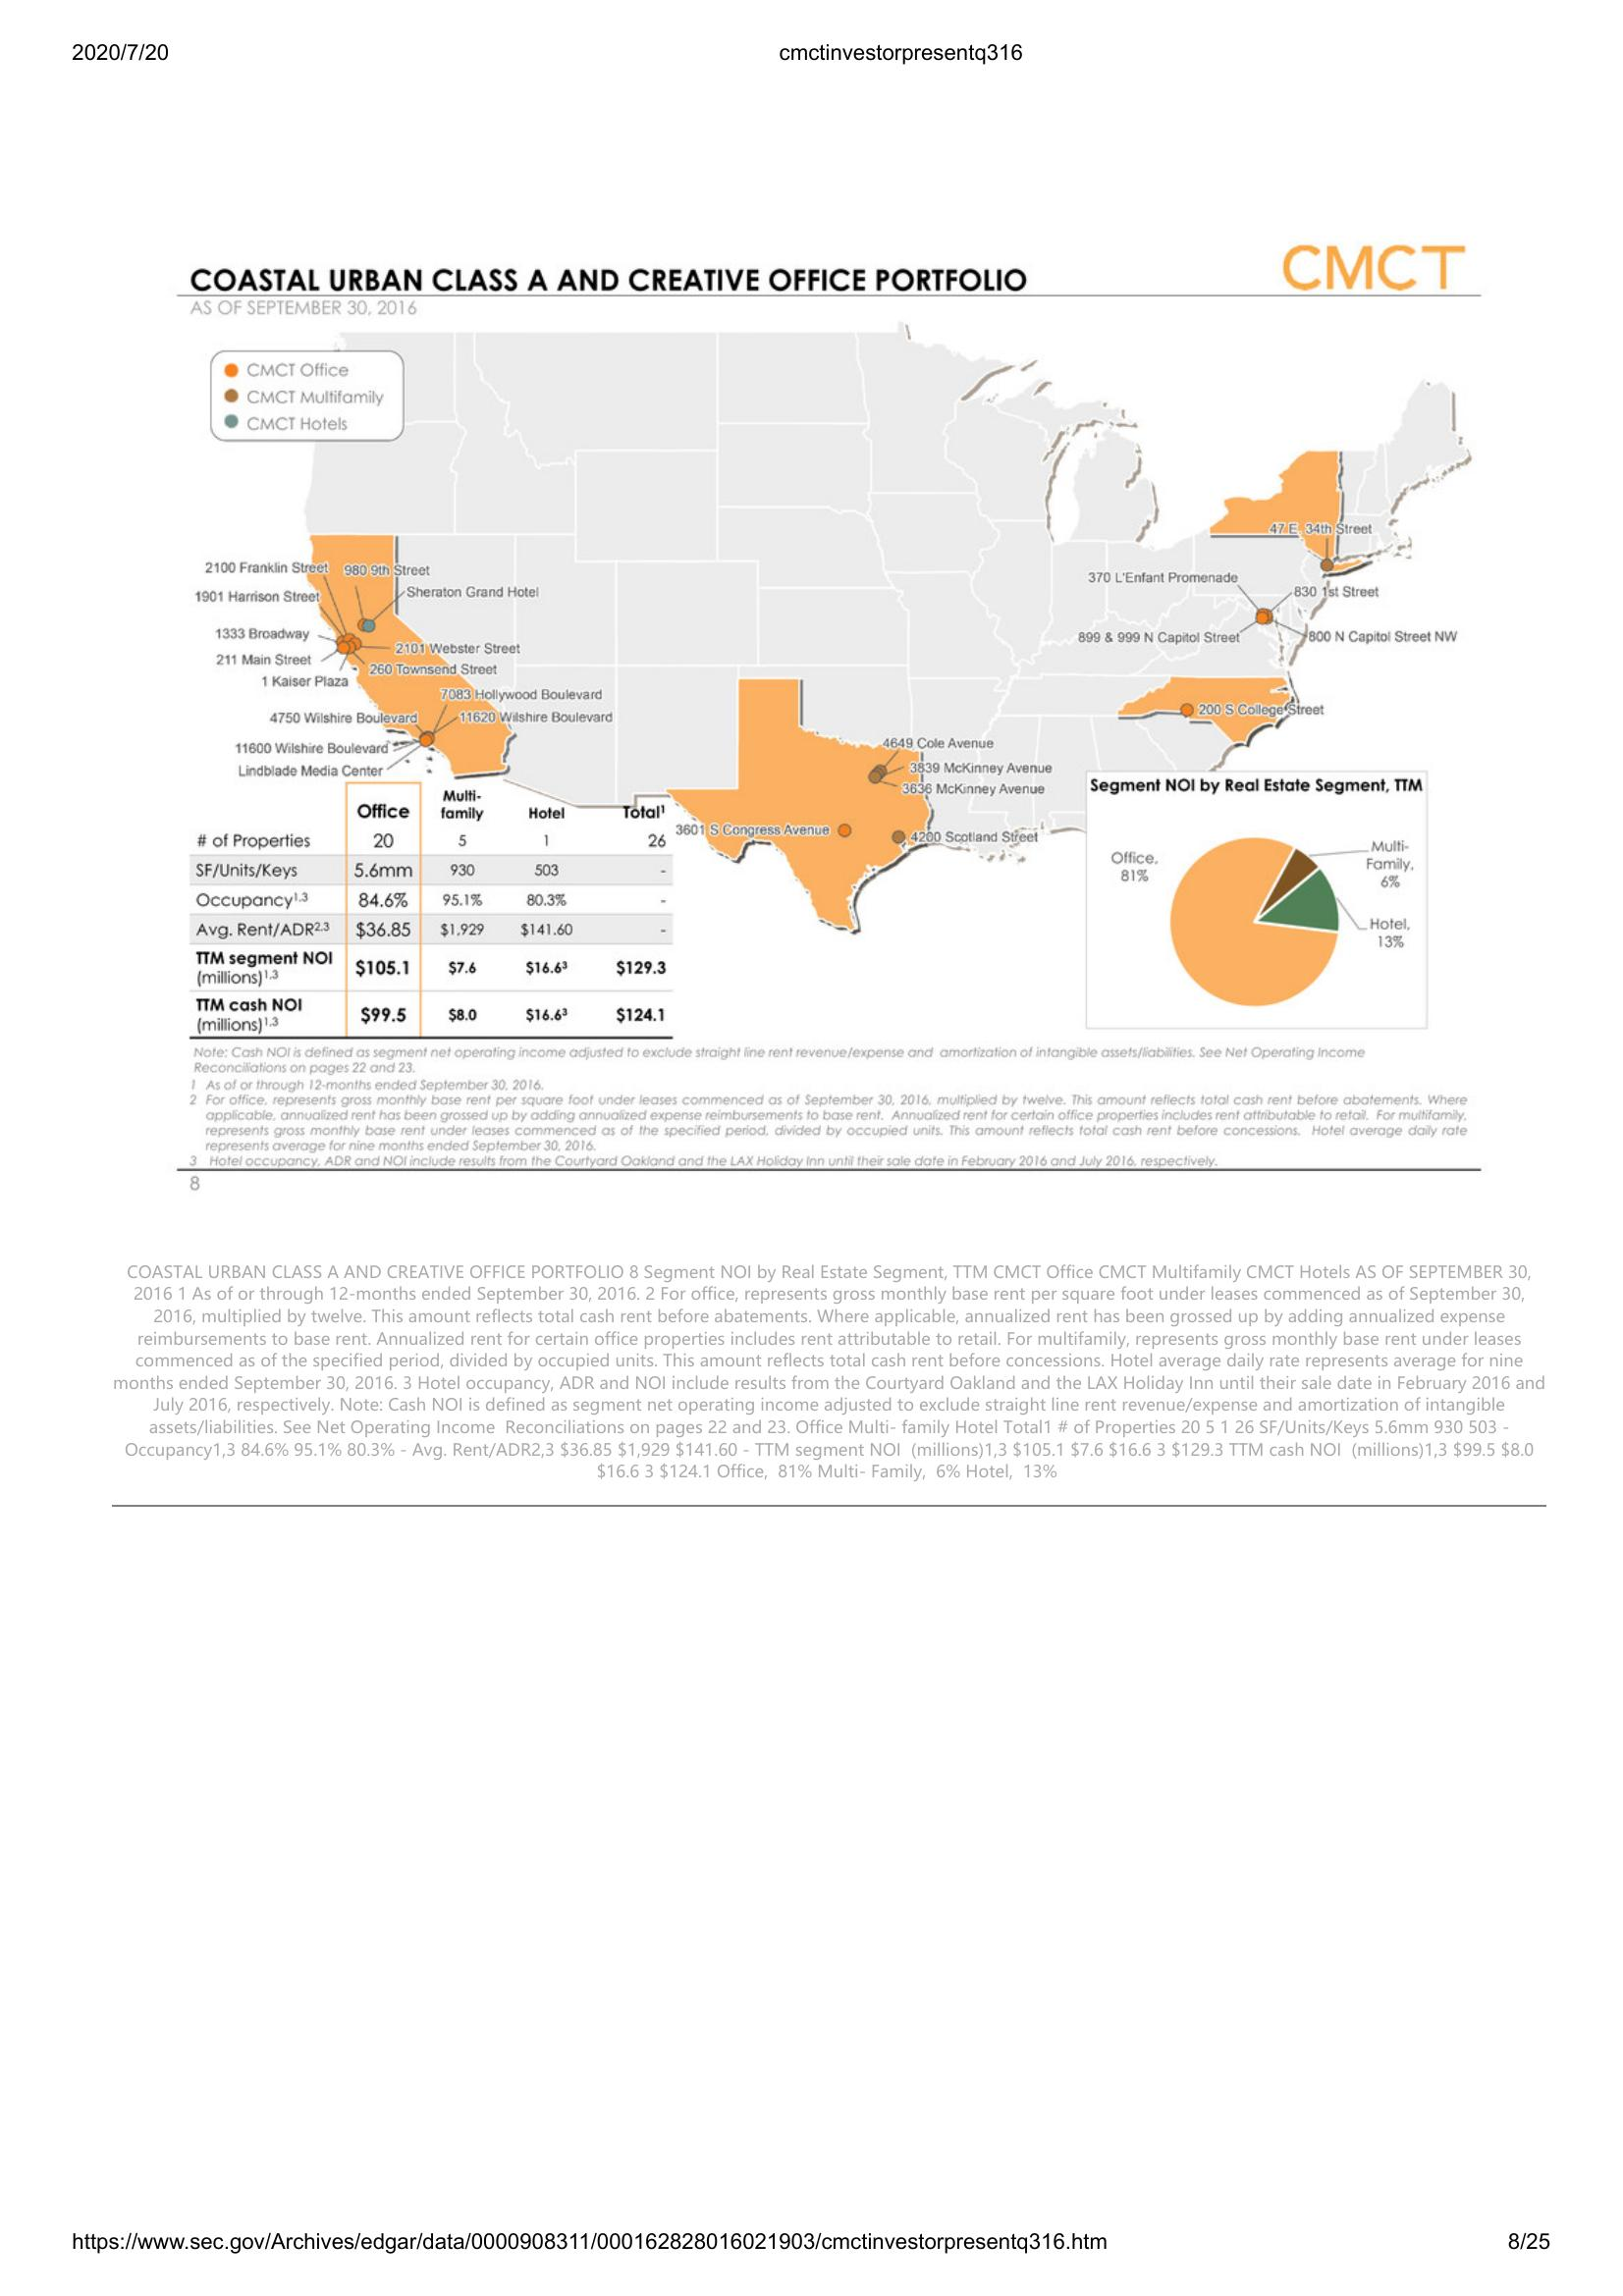table: (184, 795, 685, 1039)
